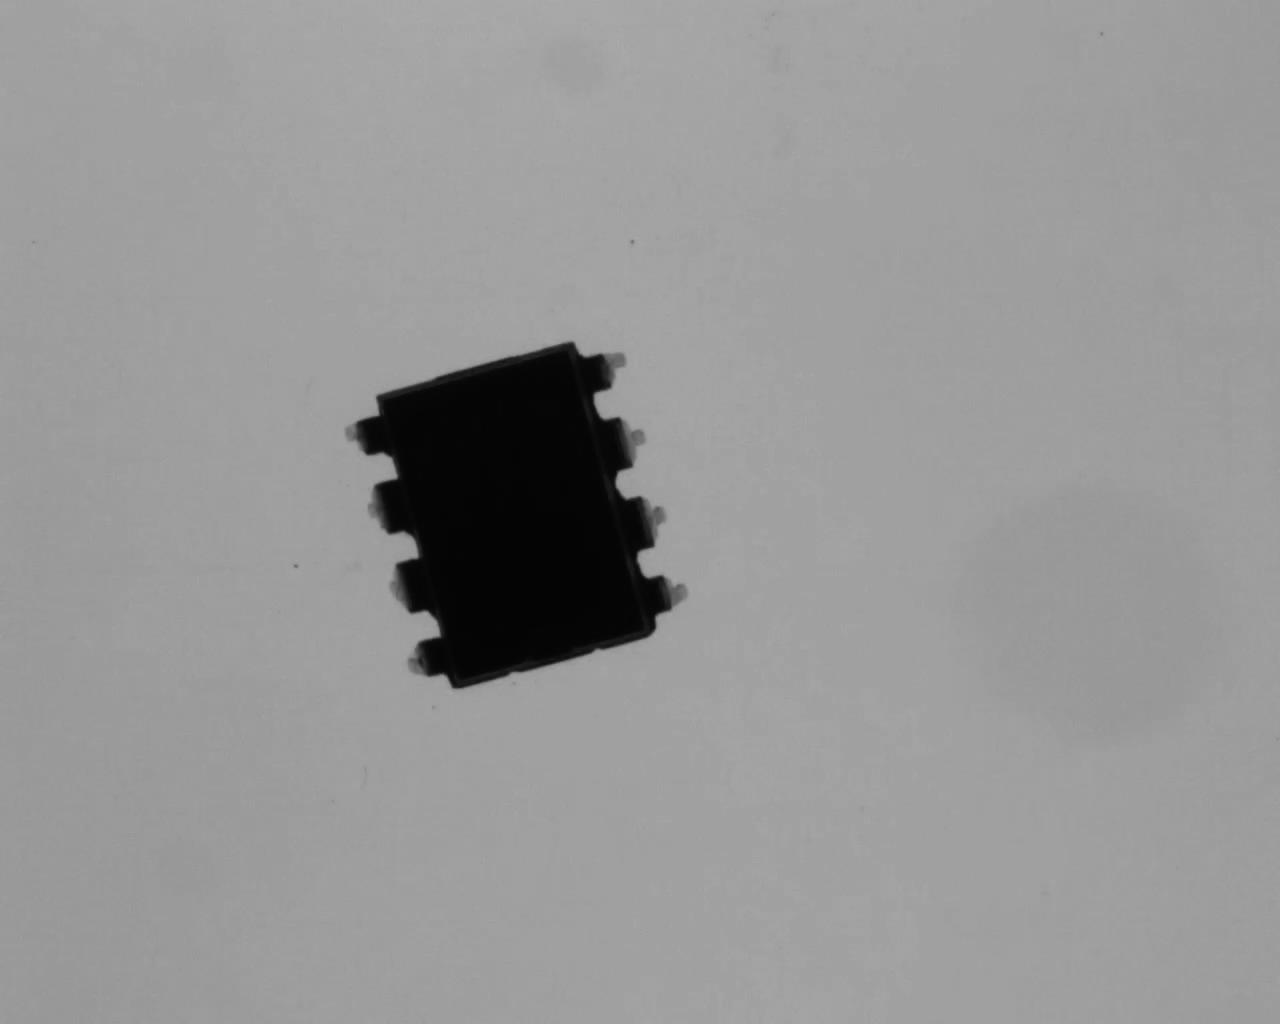Leg: (355, 473, 418, 538), (377, 553, 436, 619), (619, 489, 673, 557), (599, 412, 648, 478), (336, 408, 393, 462), (396, 634, 456, 685), (581, 343, 629, 398), (645, 573, 695, 622)
